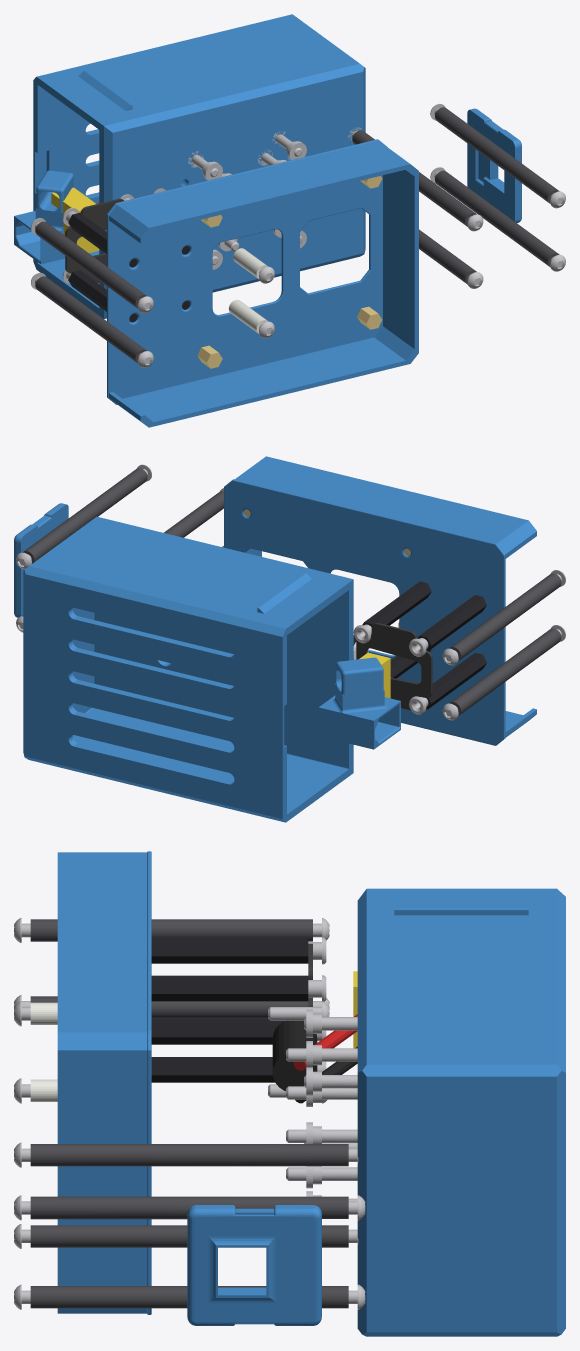
Rendered from airframe.obj.
The picture shows the model from 3 angles, top to bottom: view 1: azimuth 30°, elevation 25°; view 2: azimuth 150°, elevation 25°; view 3: azimuth 270°, elevation 25°; orthographic projection. The views are drawn at different scales.
Parts seen in each view (by area): view 1: airframe; view 2: airframe; view 3: airframe.
Boxes of the visible parts, <box> form: airframe: <box>14,14,565,427</box>; airframe: <box>14,456,565,822</box>; airframe: <box>14,851,565,1336</box>.
Size of the model in its own units: 0.1625 by 0.0731 by 0.1232.
